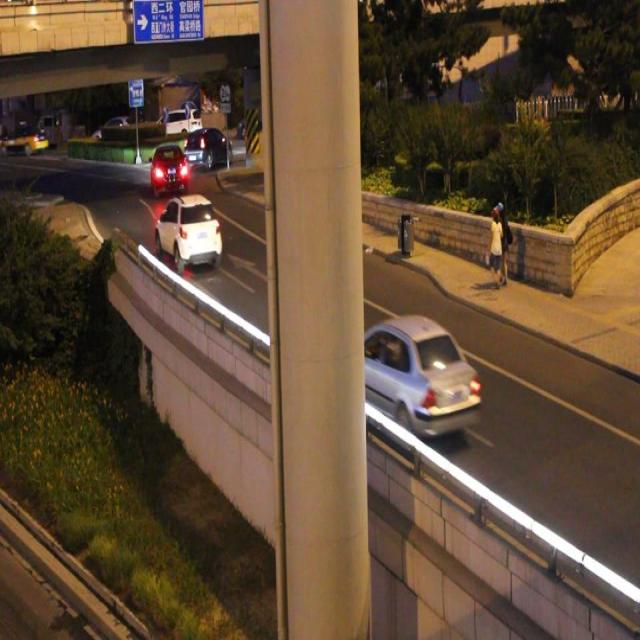car: (338, 313, 480, 436), (156, 193, 222, 270), (150, 144, 187, 194)
